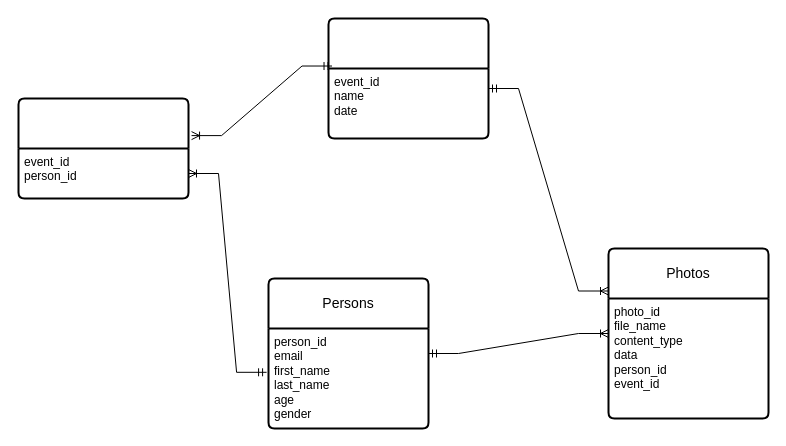
Some shapes in this 786 by 446 pixel diagram are drawn without their labels. Here are the shapes that lost their labels. From the top down, the box of each, then its label:
(327, 17, 489, 139): Events
(17, 97, 189, 199): Enrollments
